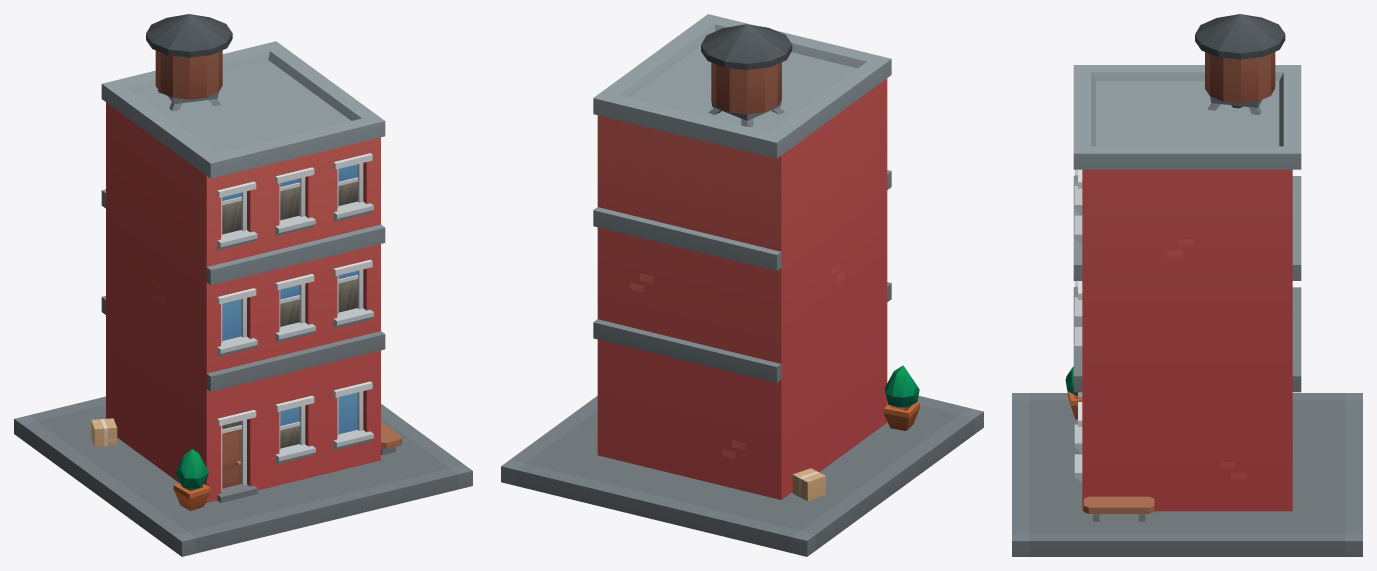
File: building_C.obj
3 renders of one model, left to right at view 1: azimuth 30°, elevation 25°; view 2: azimuth 150°, elevation 25°; view 3: azimuth 270°, elevation 25°, orthographic. The views are drawn at different scales.
Parts seen in each view (by area): view 1: building_C_Cube.937; view 2: building_C_Cube.937; view 3: building_C_Cube.937.
Part boxes in pixels (x1,y1,x2,y2): building_C_Cube.937: (14,14,472,556); building_C_Cube.937: (501,14,983,556); building_C_Cube.937: (1012,14,1362,556).
Size of the model in its own units: 2 by 2.86 by 2.
1 material, 1 textured.
